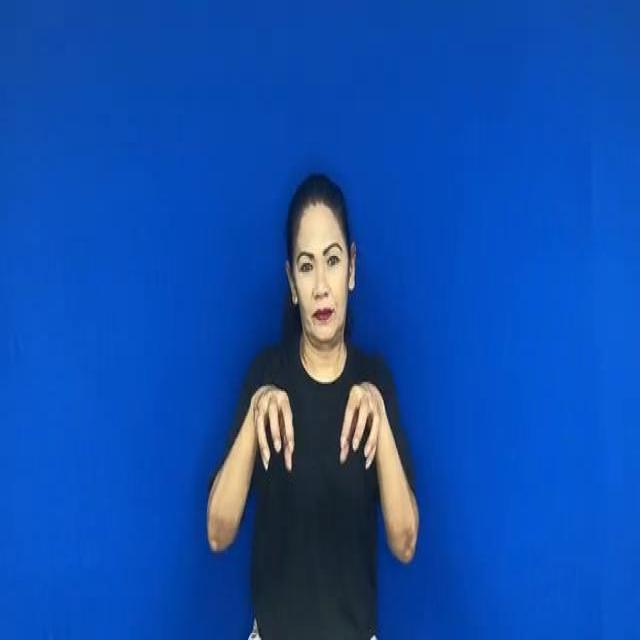egg: (234, 363, 392, 488)
